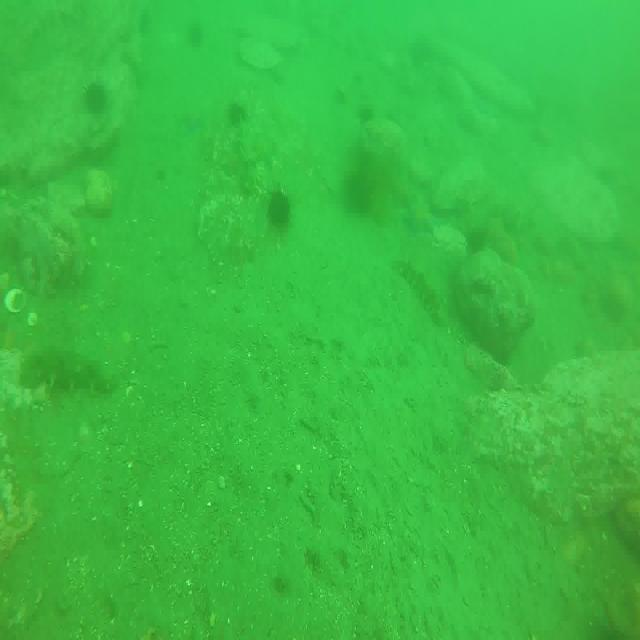echinus: (266, 187, 290, 232), (82, 82, 106, 118)
holothurian: (20, 344, 116, 392), (394, 253, 445, 324)
starfish: (404, 201, 434, 239), (179, 104, 206, 133)
